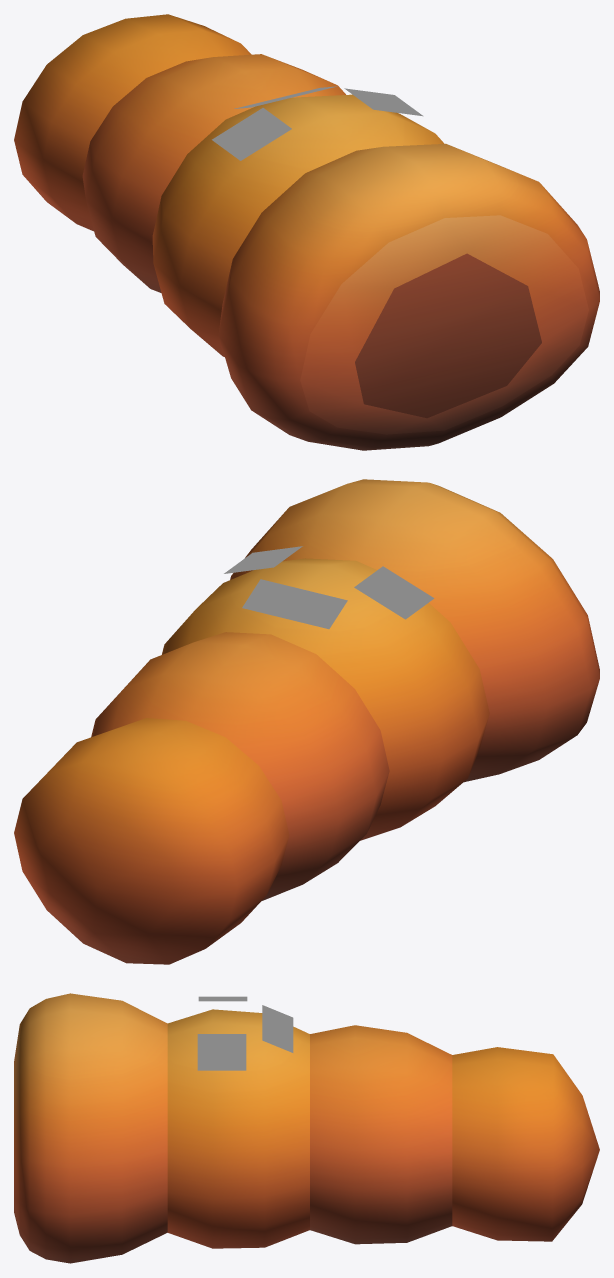
The model's file is sweet_tube_orange_smile.fbx.
3 views of the same model, one above another, from view 1: azimuth 30°, elevation 25°; view 2: azimuth 150°, elevation 25°; view 3: azimuth 270°, elevation 25° (orthographic). The views are drawn at different scales.
Parts seen in each view (by area): view 1: pie_orange, smile_pie; view 2: pie_orange, smile_pie; view 3: pie_orange, smile_pie.
Part boxes in pixels (bbox=[...]): pie_orange: bbox=[14, 14, 599, 450]; smile_pie: bbox=[212, 86, 423, 160]; pie_orange: bbox=[14, 479, 599, 964]; smile_pie: bbox=[224, 546, 434, 629]; pie_orange: bbox=[14, 993, 599, 1263]; smile_pie: bbox=[197, 996, 293, 1070].
Bounding box in the file's own units: 34.33 × 25.87 × 58.99.
